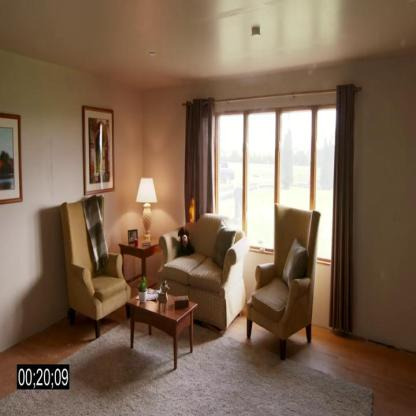fire: (188, 198, 196, 221)
